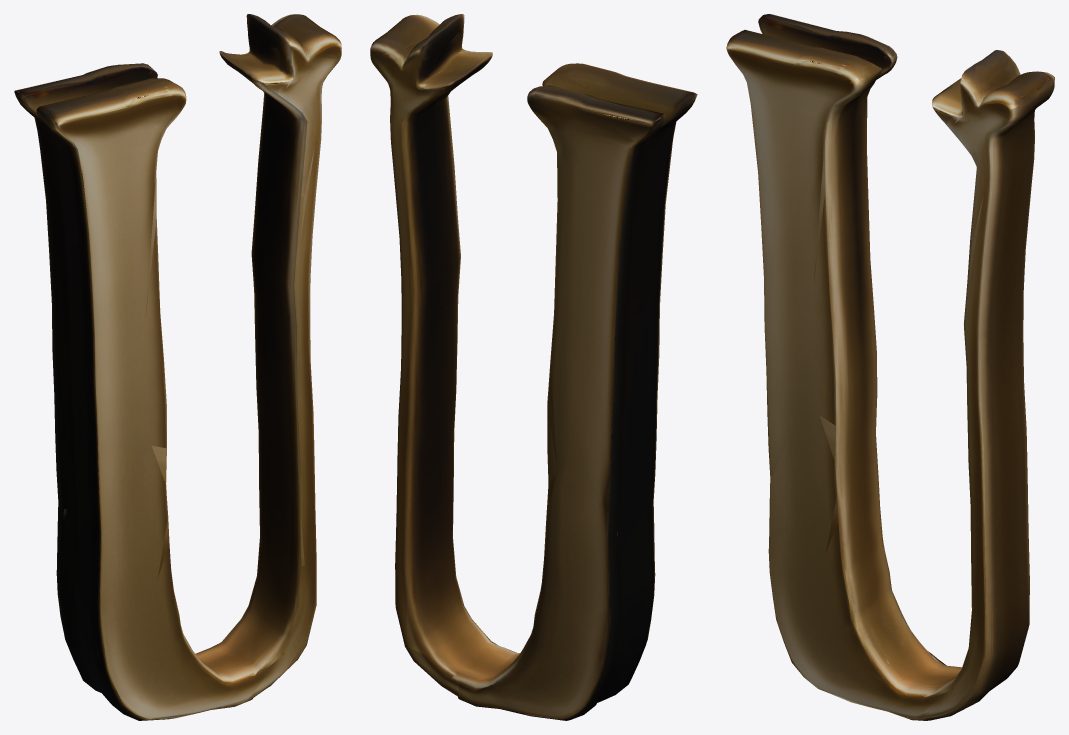
File: letter_u.glb
The picture shows the model from 3 angles, left to right: view 1: azimuth 30°, elevation 25°; view 2: azimuth 150°, elevation 25°; view 3: azimuth 330°, elevation 25°; orthographic projection.
Visible parts, largest first — view 1: eb30007a_ee6a_41b1_99bb_782f41501b0a; view 2: eb30007a_ee6a_41b1_99bb_782f41501b0a; view 3: eb30007a_ee6a_41b1_99bb_782f41501b0a.
Boxes of the visible parts, x1,y1,x2,y2 form: eb30007a_ee6a_41b1_99bb_782f41501b0a: (14,14,341,720); eb30007a_ee6a_41b1_99bb_782f41501b0a: (370,14,697,720); eb30007a_ee6a_41b1_99bb_782f41501b0a: (726,14,1054,720).
Bounding box in the file's own units: 0.4633 × 1 × 0.1247.
1 material, 1 textured.
